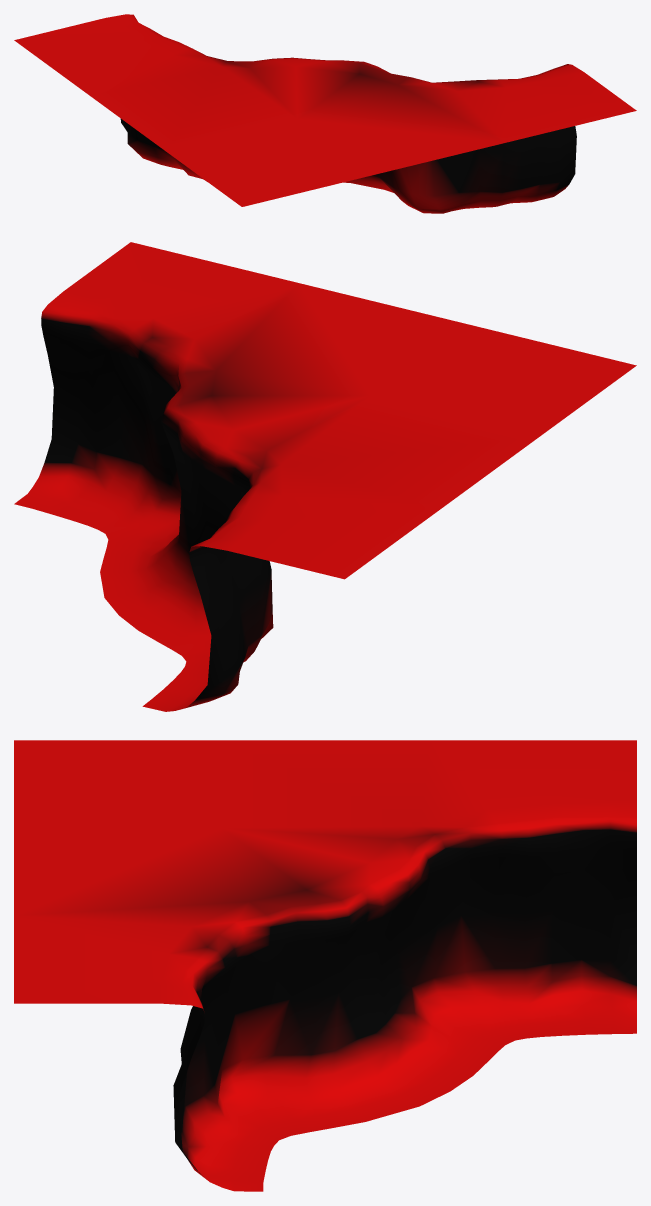
Rendered from GroundCliff04C 1M Background.fbx.
3 renders of one model, top to bottom at view 1: azimuth 30°, elevation 25°; view 2: azimuth 150°, elevation 25°; view 3: azimuth 270°, elevation 25°, orthographic. The views are drawn at different scales.
Visible parts, largest first — view 1: GroundCliff04C 1M Background; view 2: GroundCliff04C 1M Background; view 3: GroundCliff04C 1M Background.
Boxes of the visible parts, box(x1,y1,x2,y2) form: GroundCliff04C 1M Background: box(14, 14, 636, 213); GroundCliff04C 1M Background: box(14, 242, 636, 711); GroundCliff04C 1M Background: box(14, 740, 636, 1191).
Size of the model in its own units: 3 by 1 by 3.
